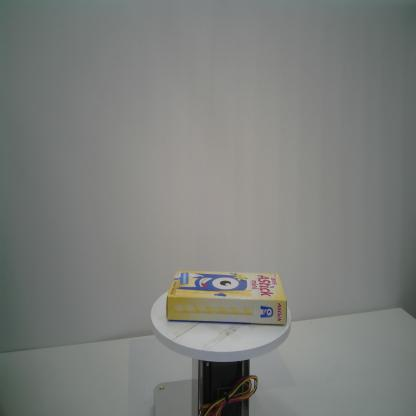Dessert: (165, 268, 290, 329)
